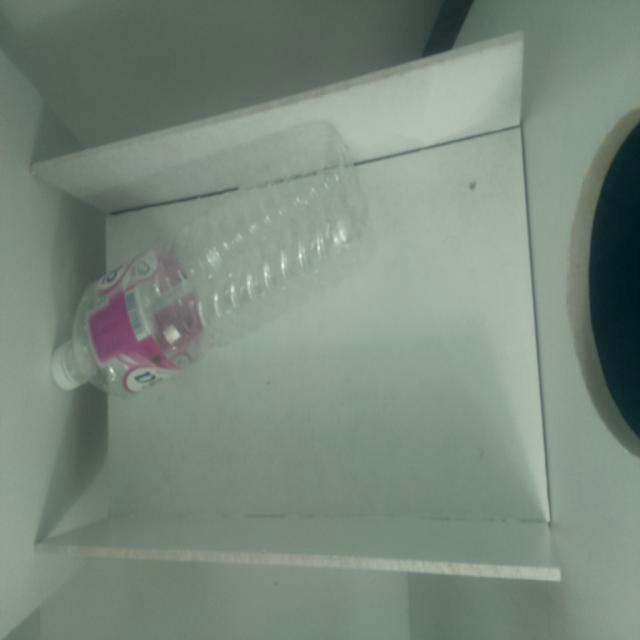bottle: (49, 133, 367, 398)
